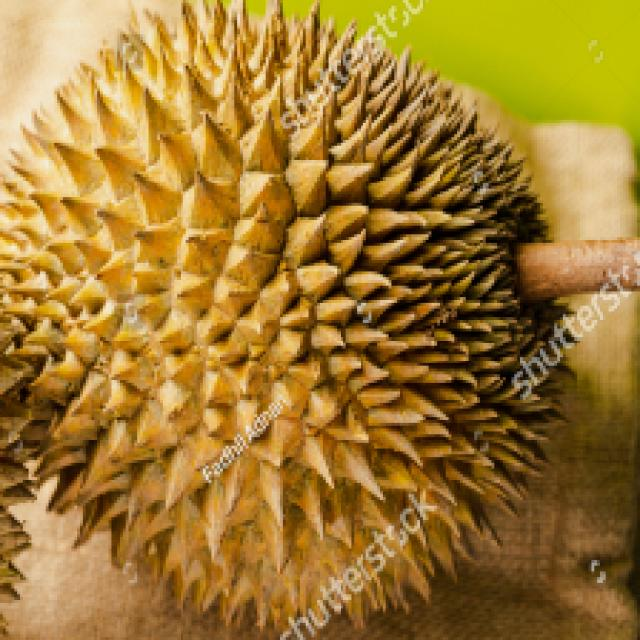d24: (28, 40, 622, 528)
